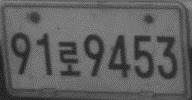1: (36, 32, 53, 78)
3: (154, 35, 178, 79)
4: (107, 33, 131, 79)
5: (133, 33, 154, 78)
9: (81, 33, 105, 77), (9, 32, 32, 76)
로: (56, 40, 81, 78)
